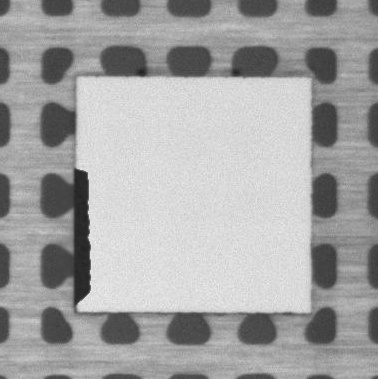DIE_BROKEN: (71, 162, 93, 305)
